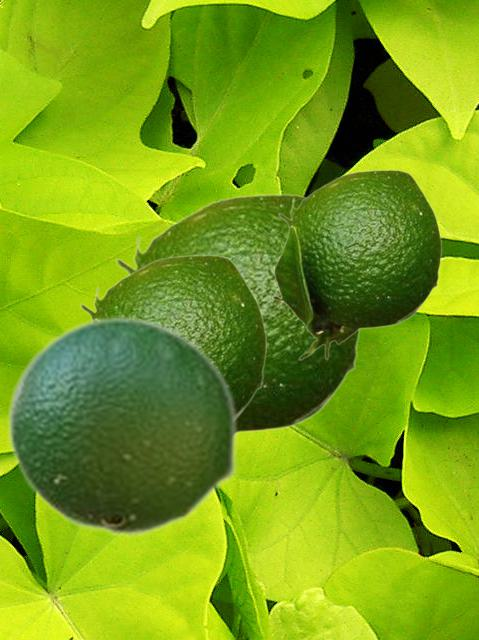dalandan: (114, 193, 360, 433), (6, 315, 238, 537), (271, 169, 441, 360), (79, 254, 266, 416)
